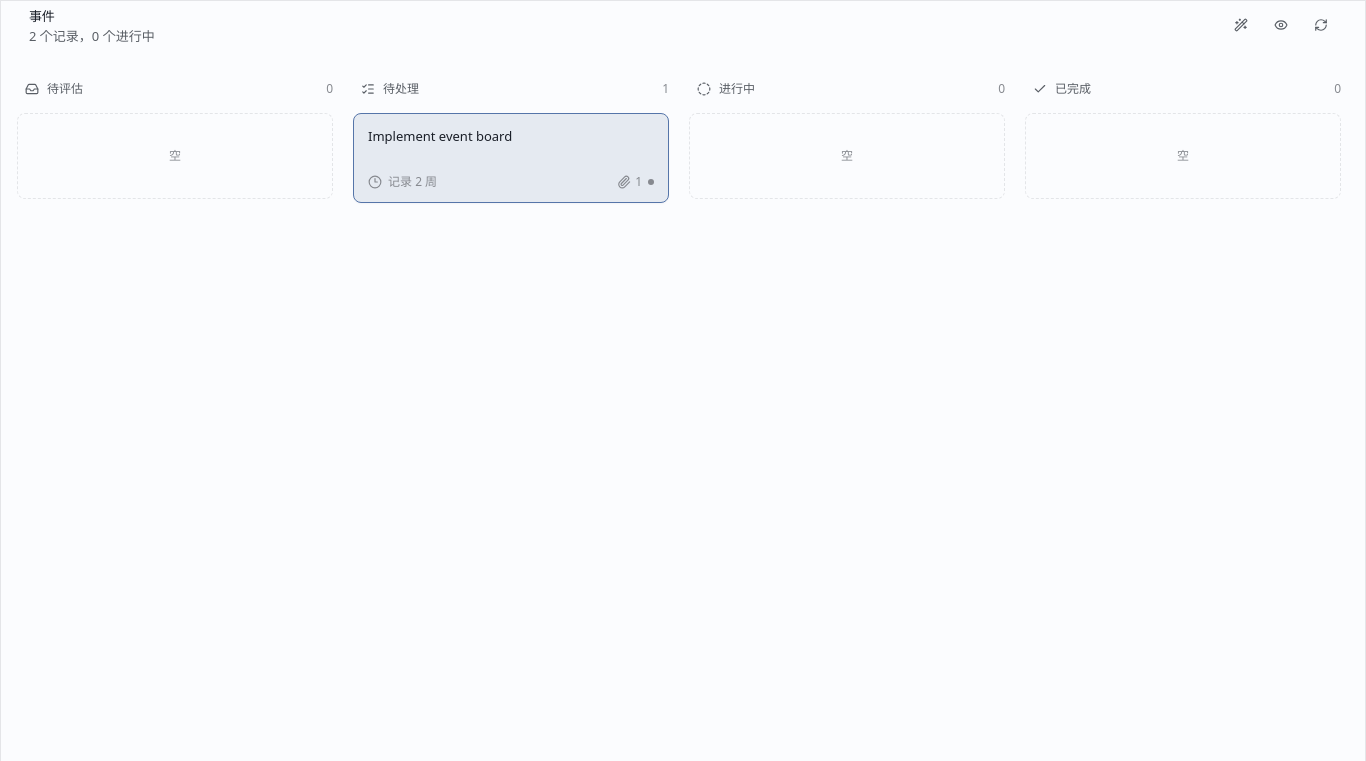
Test: EventsPage › renders compact board columns and toggles discarded events
Expected: the button named "整理事件" is shown, [1225,9,1257,41]
Expected: the button named "刷新事件" is shown, [1305,9,1337,41]
Click the button named "显示丢弃" at [1281, 25], box [1265,9,1297,41]
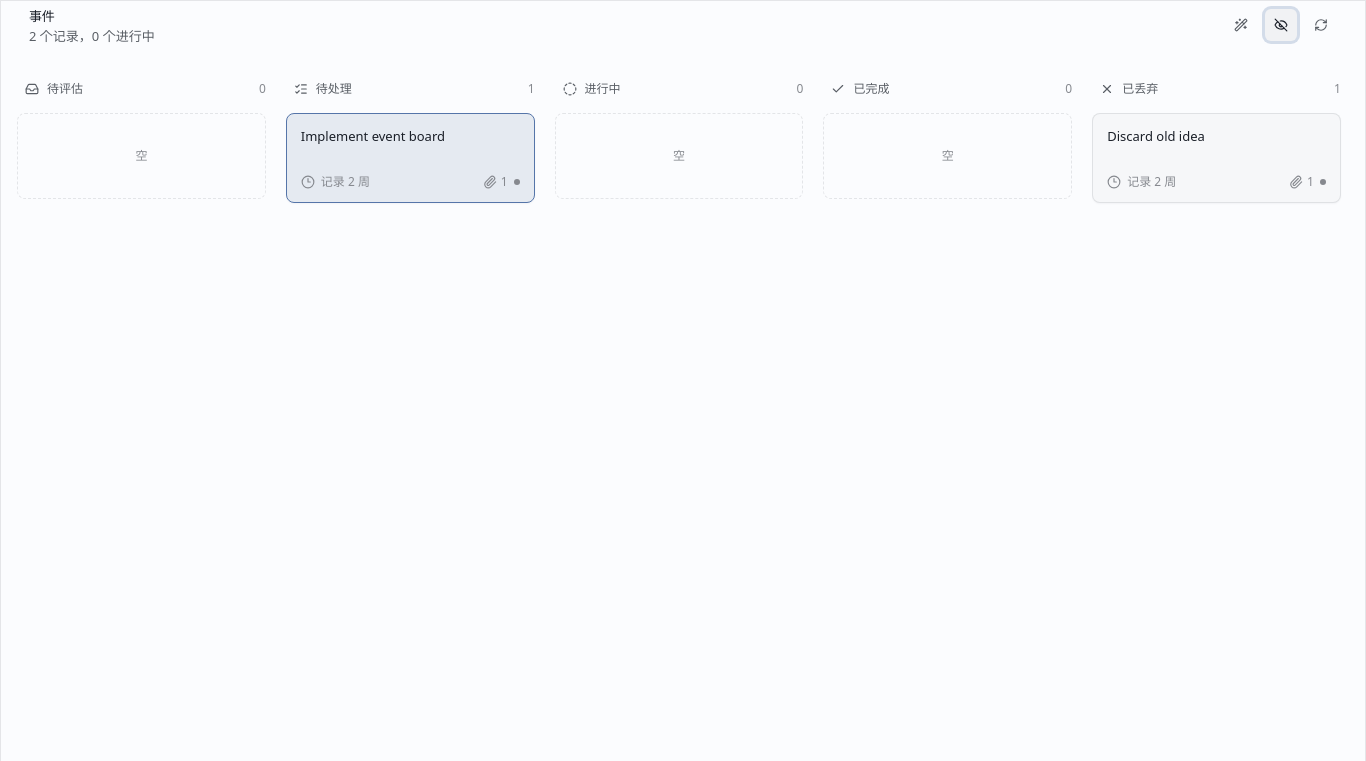
Now the heading "已丢弃" is shown, box [1122,80,1158,97]
Now the button "Discard old idea 记录 2 周 1" is shown, box [1092,113,1341,203]
Click the button "Implement event board 记录 2 周 1" at [410, 158], box [286,113,535,203]
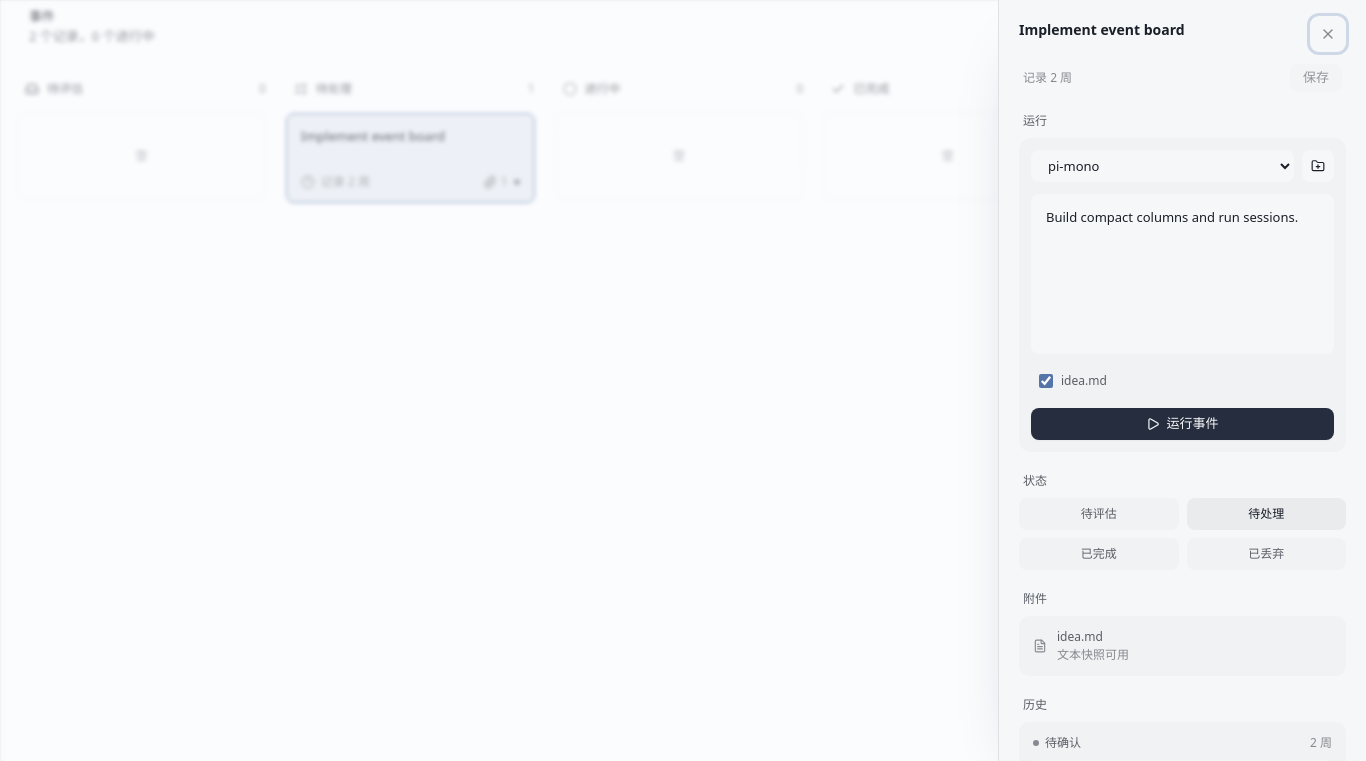
Now the heading "Implement event board" is shown, box [1019,20,1185,39]
